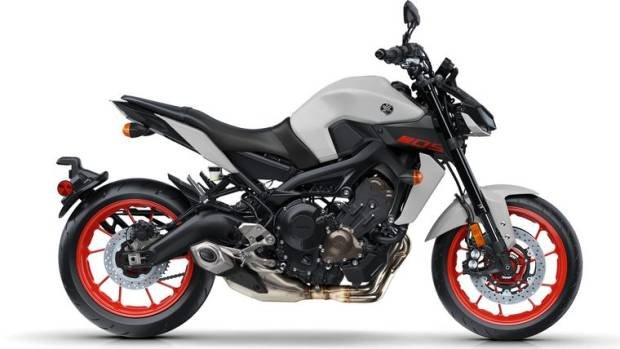motor: (46, 58, 590, 349)
